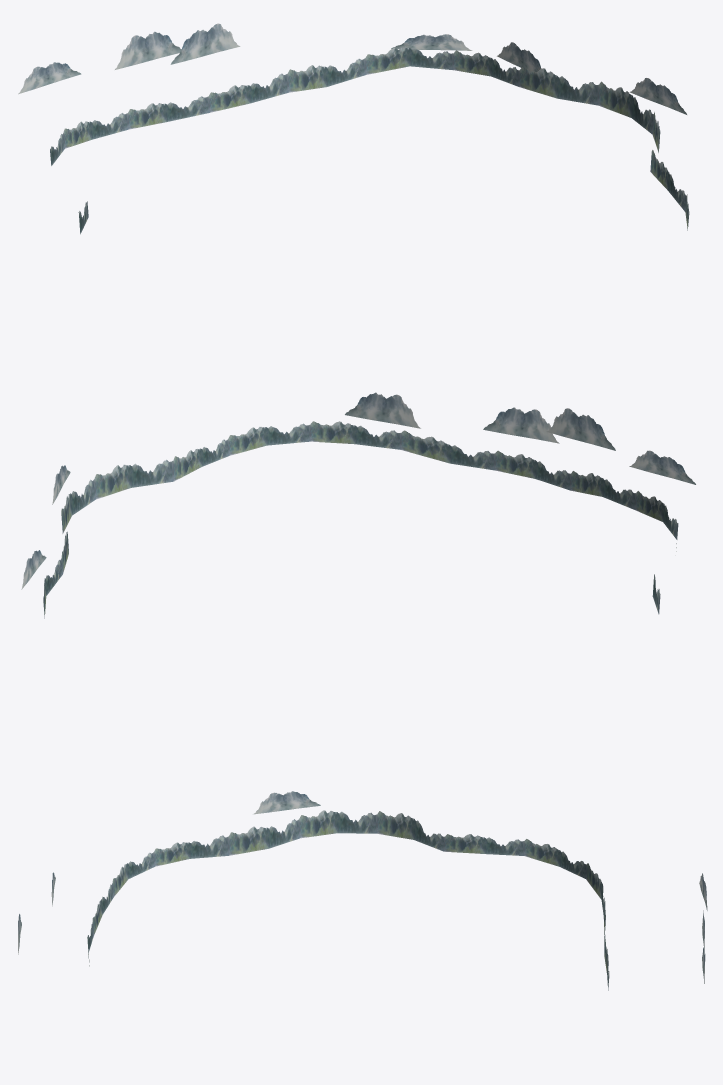
Rendered from OZ_60_wv_bgKN02A.glb.
The picture shows the model from 3 angles, top to bottom: view 1: azimuth 30°, elevation 25°; view 2: azimuth 150°, elevation 25°; view 3: azimuth 270°, elevation 25°; orthographic projection. The views are drawn at different scales.
Parts seen in each view (by area): view 1: OM_60_wv_bgKN02A; view 2: OM_60_wv_bgKN02A; view 3: OM_60_wv_bgKN02A.
Part boxes in pixels (box(x1,y1,x2,y2)): OM_60_wv_bgKN02A: box(18, 23, 689, 234); OM_60_wv_bgKN02A: box(21, 392, 695, 618); OM_60_wv_bgKN02A: box(18, 791, 707, 990).
Bounding box in the file's own units: 1190 × 106 × 1321.
Materials: 1 (1 with a texture image).
